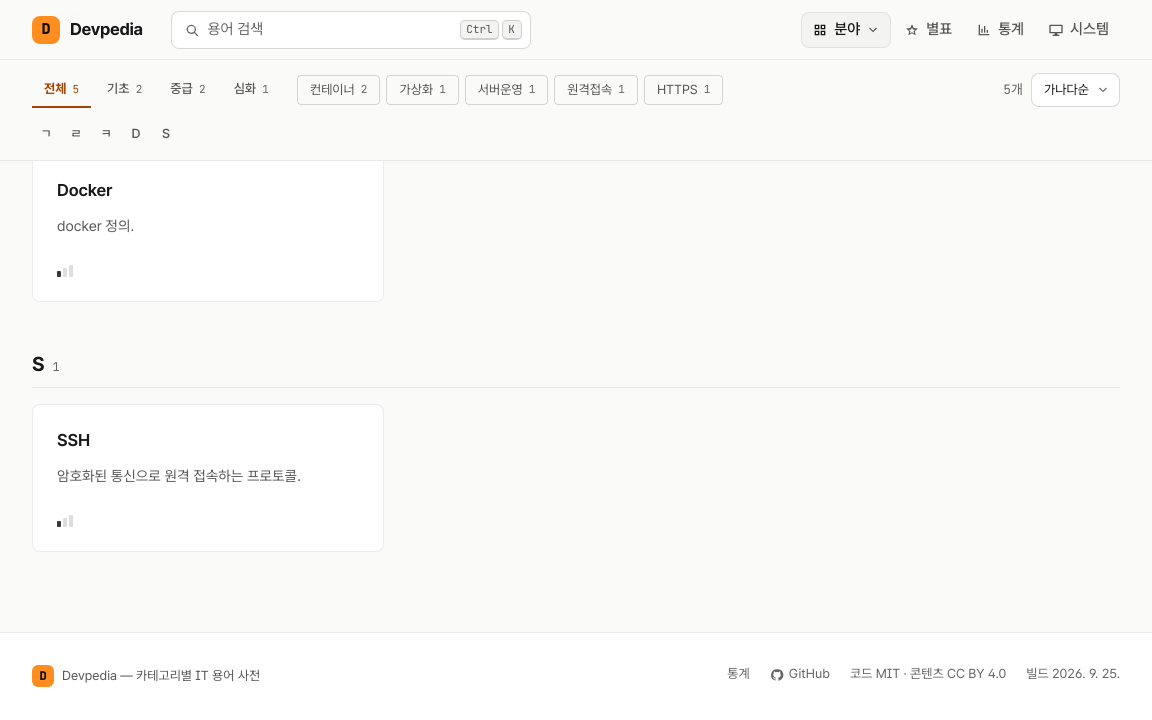
Scenario: CategoryPage › follows the link to the term page on narrow screens
(page scrolled)
Click the link "SSH 암호화된 통신으로 원격 접속하는 프로토콜.".
click(208, 478)  # box left=32, top=404, right=384, bottom=552
(page scrolled)
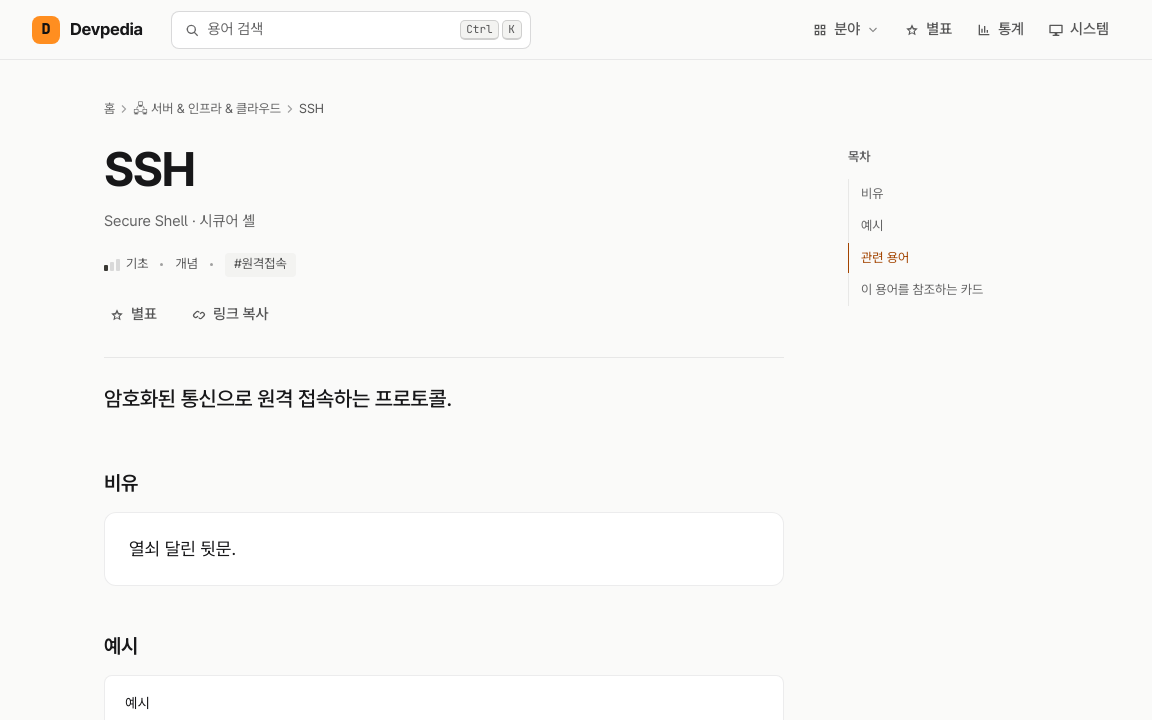
Expected: the heading "SSH" is shown, left=104, top=140, right=195, bottom=198
